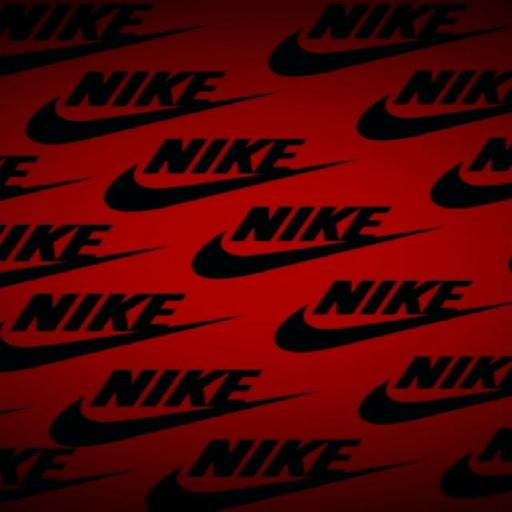Nike: (100, 157, 361, 215), (230, 206, 396, 244)
